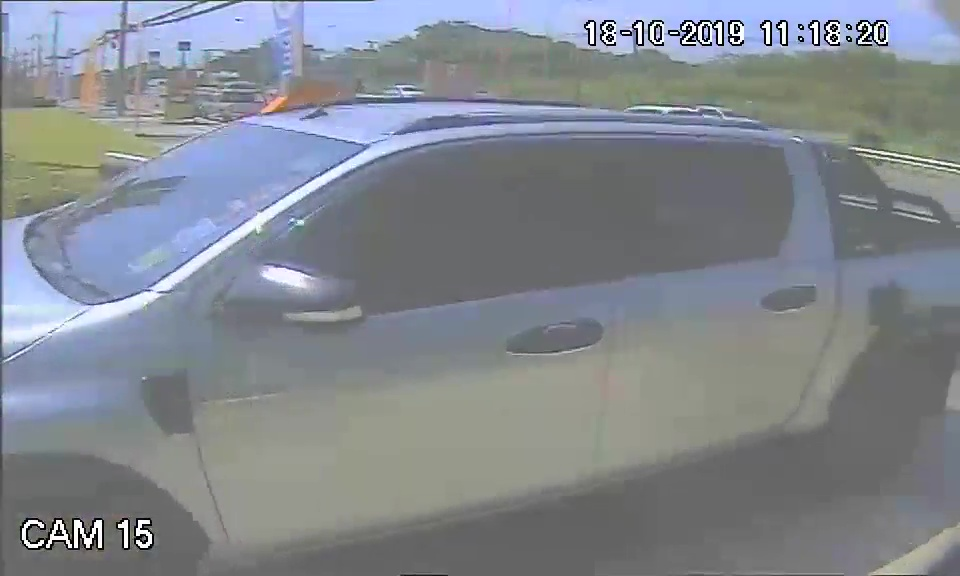pickup: (10, 96, 938, 519)
